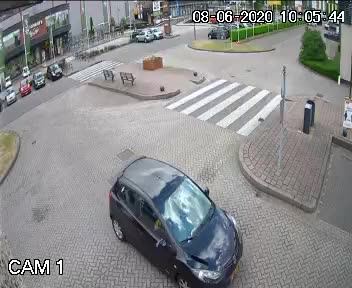car: (92, 149, 240, 283)
